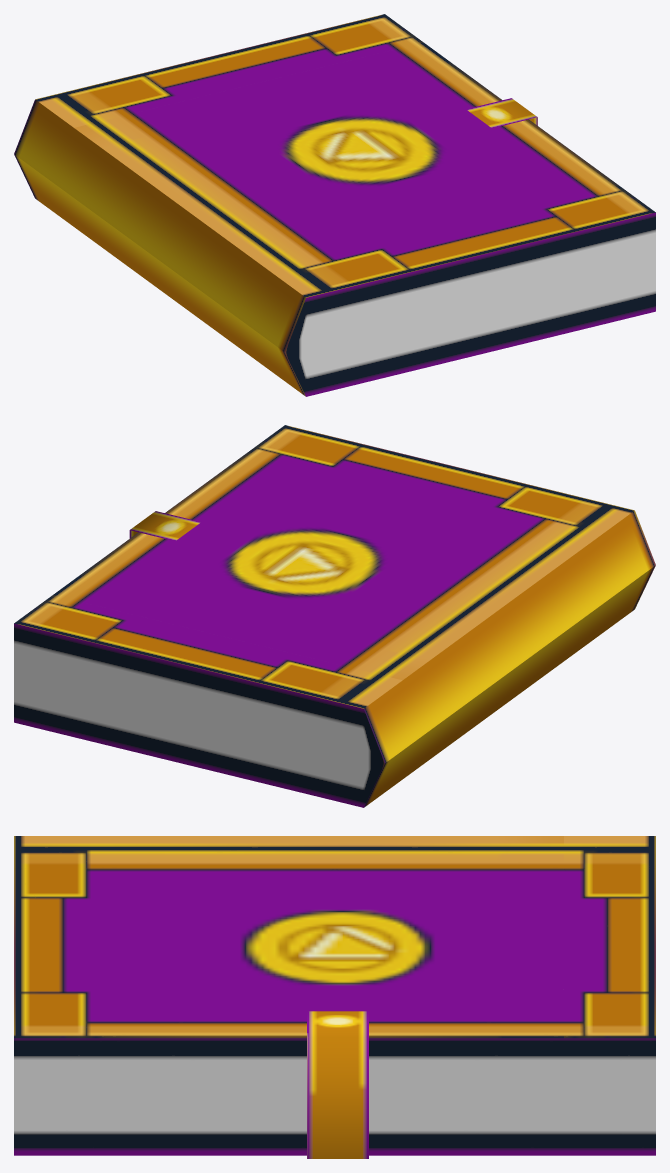
File: book3.FBX
3 renders of one model, top to bottom at view 1: azimuth 30°, elevation 25°; view 2: azimuth 150°, elevation 25°; view 3: azimuth 270°, elevation 25°, orthographic. The views are drawn at different scales.
Parts seen in each view (by area): view 1: Object009; view 2: Object009; view 3: Object009.
Boxes of the visible parts, box(x1,y1,x2,y2) form: Object009: box(14, 14, 655, 396); Object009: box(14, 425, 655, 807); Object009: box(14, 836, 655, 1158).
Bounding box in the file's own units: 41.43 × 10.77 × 51.68.
1 material, 1 textured.
